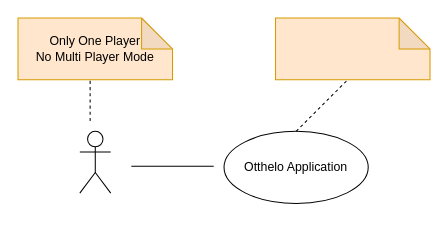
Some shapes in this 448 by 233 pixel diagram are drawn without their labels. Each missing label, with the centre of its shape:
"Player" belongs at point 95,161.
"Web Application" belongs at point 352,48.
